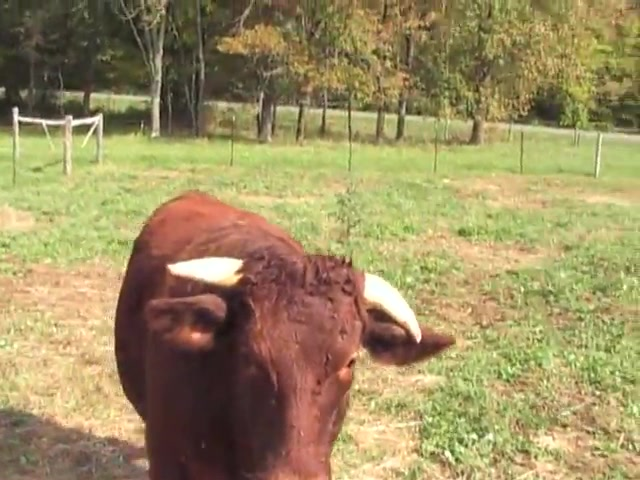cow: (109, 191, 458, 480)
